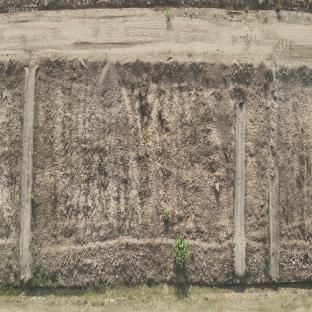slope_drain: (20, 67, 37, 287), (233, 102, 247, 276), (269, 99, 280, 285)
toe_drain: (0, 279, 312, 301)
vegetation: (173, 231, 193, 273)
